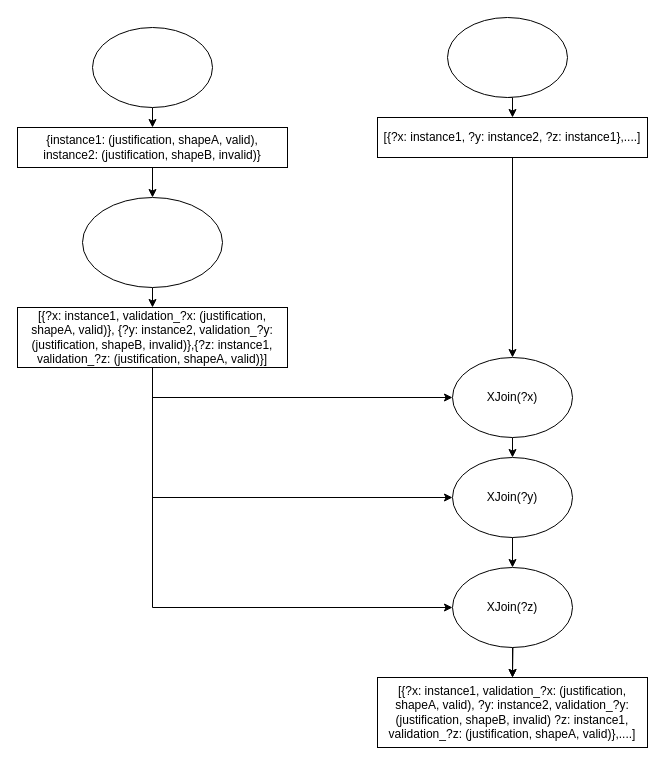
The diagram is 665 pixels wide and 765 high, and some of its shapes have lost their labels. The shapes that lost their labels are listed below. From the top down, each one's box as (x1, y1, x2, y2) in pixels, then its label:
(92, 26, 212, 108): Validate (Reduced) ShapeNetwork with TravSHACL/S2S
(446, 16, 568, 98): Query starshaped Query with contactsource.py
(82, 196, 222, 288): Map Shapes to Variables
